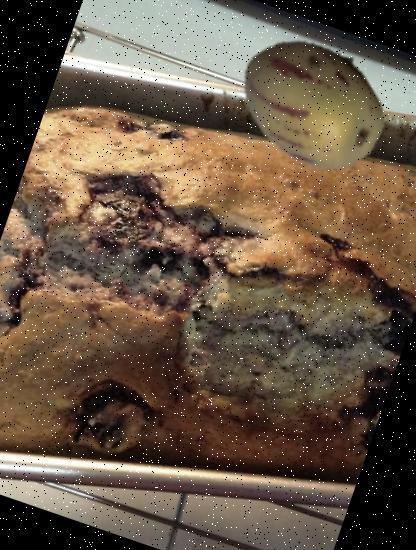Pepino: (219, 9, 408, 198)
